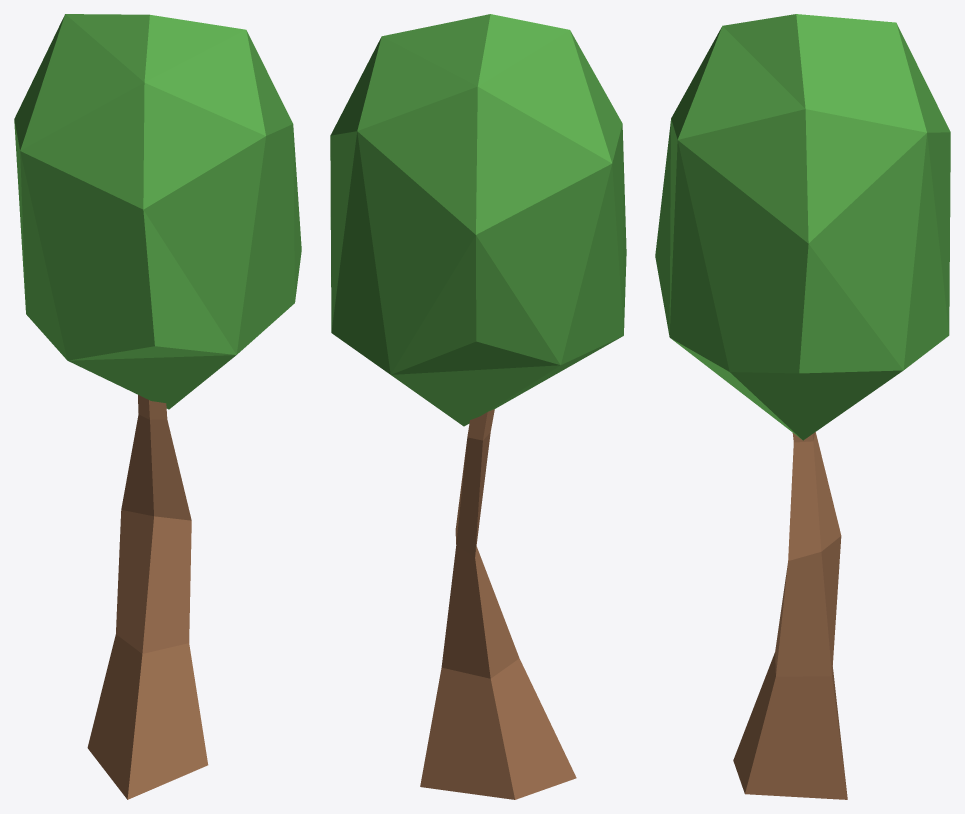
Rendered from Tree Trunk.fbx.
3 renders of one model, left to right at view 1: azimuth 30°, elevation 25°; view 2: azimuth 150°, elevation 25°; view 3: azimuth 270°, elevation 25°, orthographic. The views are drawn at different scales.
Visible parts, largest first — view 1: GeoSphere001, Box001; view 2: GeoSphere001, Box001; view 3: GeoSphere001, Box001.
Boxes of the visible parts, x1,y1,x2,y2 form: GeoSphere001: (14,14,301,409); Box001: (87,395,208,799); GeoSphere001: (330,14,626,426); Box001: (420,409,576,799); GeoSphere001: (655,14,950,440); Box001: (733,432,847,799).
Size of the model in its own units: 48.59 by 126 by 43.54.
